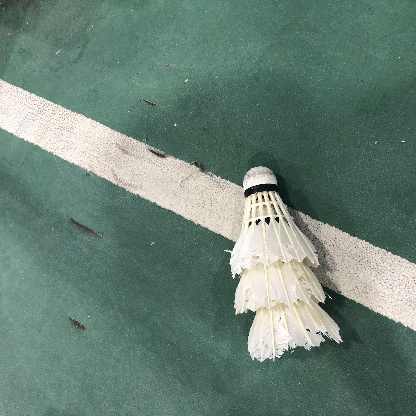ball_single: (229, 167, 343, 362)
